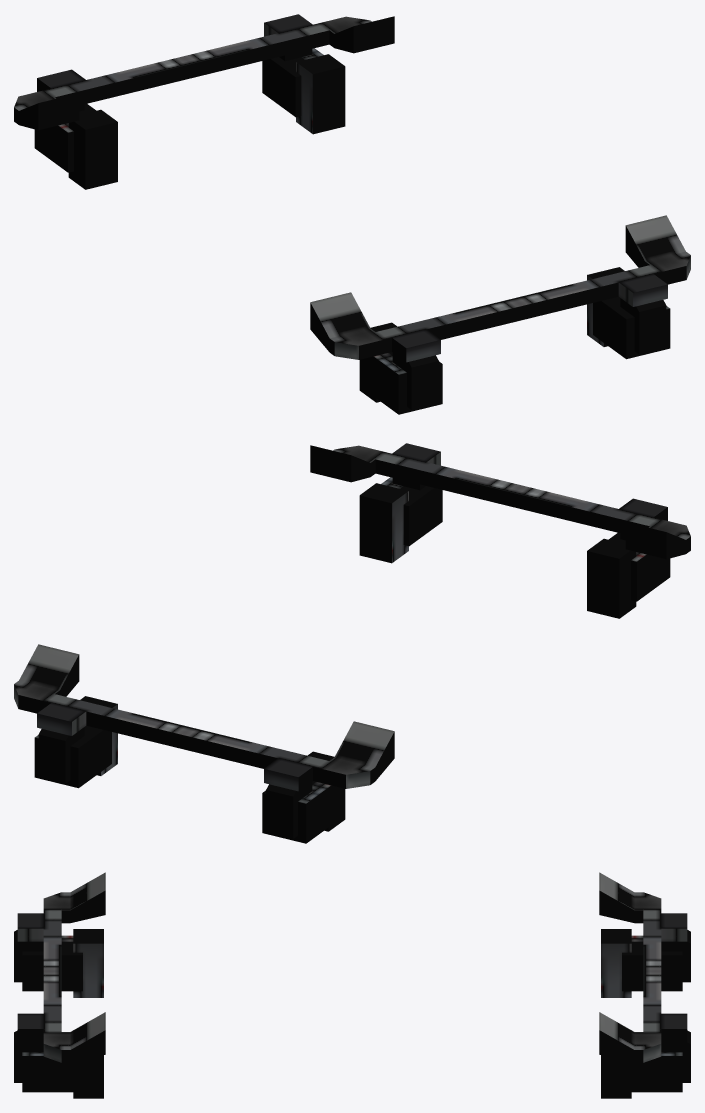
Rendered from brakes.obj.
3 views of the same model, one above another, from view 1: azimuth 30°, elevation 25°; view 2: azimuth 150°, elevation 25°; view 3: azimuth 270°, elevation 25° (orthographic). The views are drawn at different scales.
Parts seen in each view (by area): view 1: 2672b286-1c4f-b5c3-8ffa-e484b48f6de5, dc05521b-d545-b9b0-7829-cf1f0ae14374, eb57f613-3a1a-019c-4d9a-3ac573b27666, 71d05e10-dd7e-2c60-1e0a-acb753c8648d, a12e2650-7850-f8c2-17ee-70e40d538057, 979189b5-3696-8f0e-344d-f11f83d48f23, 9c58c9cd-b42b-ff24-cfcf-48820ecf80e1, be0e5a35-d0a9-d204-8b89-eaf401a8a6e8, 7ce3c490-e029-c4bd-24d3-bcbaa68ae9ee, a292e5a3-5958-7b0d-60b8-7d00408d13f2, 4d406163-da17-609a-c2d9-adaaf8ad1ec4, ab2c6840-2d5b-4455-3e46-30a0dec5fd85; view 2: 71d05e10-dd7e-2c60-1e0a-acb753c8648d, eb57f613-3a1a-019c-4d9a-3ac573b27666, dc05521b-d545-b9b0-7829-cf1f0ae14374, 2672b286-1c4f-b5c3-8ffa-e484b48f6de5, cb46a0ee-6354-844f-6aea-148e93308e00, c3a41ec4-38ba-fe69-c00d-0407f92a543a, 7ce3c490-e029-c4bd-24d3-bcbaa68ae9ee, ab2c6840-2d5b-4455-3e46-30a0dec5fd85, 9c58c9cd-b42b-ff24-cfcf-48820ecf80e1, 1aa0fcfc-adbd-7955-9a30-77d9f835501f, aa626d45-8d16-8509-5e59-6d90468d6a67, be0e5a35-d0a9-d204-8b89-eaf401a8a6e8; view 3: dc05521b-d545-b9b0-7829-cf1f0ae14374, eb57f613-3a1a-019c-4d9a-3ac573b27666, 2672b286-1c4f-b5c3-8ffa-e484b48f6de5, 71d05e10-dd7e-2c60-1e0a-acb753c8648d, 9c58c9cd-b42b-ff24-cfcf-48820ecf80e1, 7ce3c490-e029-c4bd-24d3-bcbaa68ae9ee, be0e5a35-d0a9-d204-8b89-eaf401a8a6e8, ab2c6840-2d5b-4455-3e46-30a0dec5fd85, c3a41ec4-38ba-fe69-c00d-0407f92a543a, 979189b5-3696-8f0e-344d-f11f83d48f23, cb46a0ee-6354-844f-6aea-148e93308e00, a12e2650-7850-f8c2-17ee-70e40d538057 (+4 smaller).
Part boxes in pixels (x1,y1,x2,y2): 2672b286-1c4f-b5c3-8ffa-e484b48f6de5: [310, 292, 522, 362]; dc05521b-d545-b9b0-7829-cf1f0ae14374: [513, 215, 690, 319]; eb57f613-3a1a-019c-4d9a-3ac573b27666: [182, 14, 394, 77]; 71d05e10-dd7e-2c60-1e0a-acb753c8648d: [14, 56, 192, 130]; a12e2650-7850-f8c2-17ee-70e40d538057: [296, 54, 345, 134]; 979189b5-3696-8f0e-344d-f11f83d48f23: [68, 109, 117, 189]; 9c58c9cd-b42b-ff24-cfcf-48820ecf80e1: [593, 296, 670, 359]; be0e5a35-d0a9-d204-8b89-eaf401a8a6e8: [365, 352, 442, 414]; 7ce3c490-e029-c4bd-24d3-bcbaa68ae9ee: [262, 48, 323, 117]; a292e5a3-5958-7b0d-60b8-7d00408d13f2: [620, 298, 666, 354]; 4d406163-da17-609a-c2d9-adaaf8ad1ec4: [392, 353, 438, 409]; ab2c6840-2d5b-4455-3e46-30a0dec5fd85: [34, 104, 96, 172]; 71d05e10-dd7e-2c60-1e0a-acb753c8648d: [182, 721, 394, 791]; eb57f613-3a1a-019c-4d9a-3ac573b27666: [14, 644, 191, 748]; dc05521b-d545-b9b0-7829-cf1f0ae14374: [310, 443, 522, 506]; 2672b286-1c4f-b5c3-8ffa-e484b48f6de5: [512, 485, 690, 559]; cb46a0ee-6354-844f-6aea-148e93308e00: [359, 483, 408, 563]; c3a41ec4-38ba-fe69-c00d-0407f92a543a: [587, 538, 636, 618]; 7ce3c490-e029-c4bd-24d3-bcbaa68ae9ee: [34, 725, 111, 788]; ab2c6840-2d5b-4455-3e46-30a0dec5fd85: [262, 781, 339, 843]; 9c58c9cd-b42b-ff24-cfcf-48820ecf80e1: [381, 477, 442, 546]; 1aa0fcfc-adbd-7955-9a30-77d9f835501f: [38, 727, 84, 783]; aa626d45-8d16-8509-5e59-6d90468d6a67: [266, 782, 312, 838]; be0e5a35-d0a9-d204-8b89-eaf401a8a6e8: [608, 533, 670, 601]; dc05521b-d545-b9b0-7829-cf1f0ae14374: [17, 971, 105, 1062]; eb57f613-3a1a-019c-4d9a-3ac573b27666: [599, 971, 687, 1062]; 2672b286-1c4f-b5c3-8ffa-e484b48f6de5: [17, 872, 105, 970]; 71d05e10-dd7e-2c60-1e0a-acb753c8648d: [599, 872, 687, 970]; 9c58c9cd-b42b-ff24-cfcf-48820ecf80e1: [22, 1052, 82, 1092]; 7ce3c490-e029-c4bd-24d3-bcbaa68ae9ee: [622, 1052, 682, 1092]; be0e5a35-d0a9-d204-8b89-eaf401a8a6e8: [22, 935, 82, 991]; ab2c6840-2d5b-4455-3e46-30a0dec5fd85: [622, 935, 682, 991]; c3a41ec4-38ba-fe69-c00d-0407f92a543a: [73, 929, 103, 997]; 979189b5-3696-8f0e-344d-f11f83d48f23: [601, 929, 631, 997]; cb46a0ee-6354-844f-6aea-148e93308e00: [73, 1055, 103, 1098]; a12e2650-7850-f8c2-17ee-70e40d538057: [601, 1055, 631, 1098].
Bounding box in the file's own units: 2.33 × 0.62 × 4.22.
